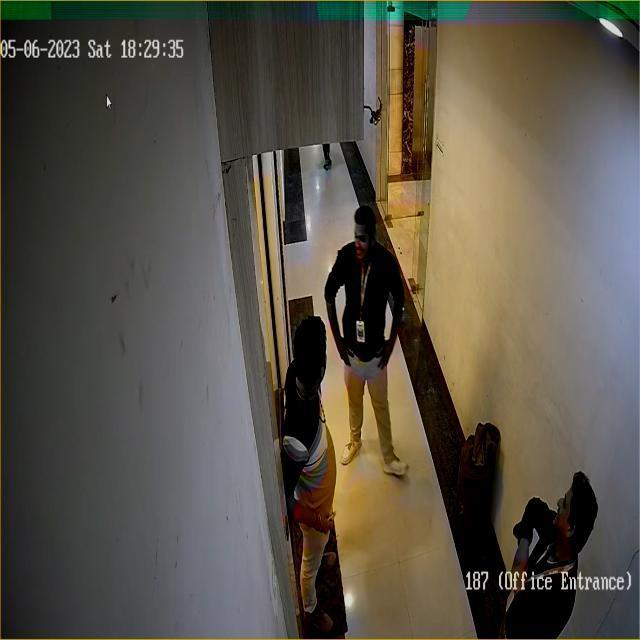gunny_bag: (451, 416, 505, 546)
